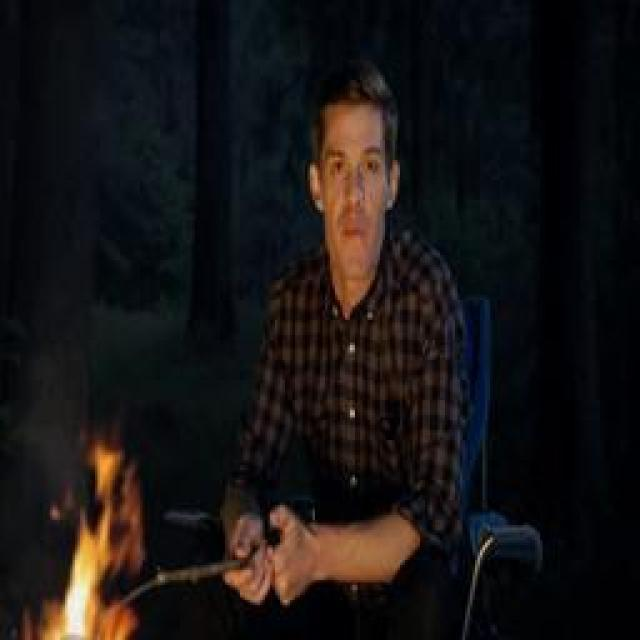Fire: (17, 427, 147, 640)
